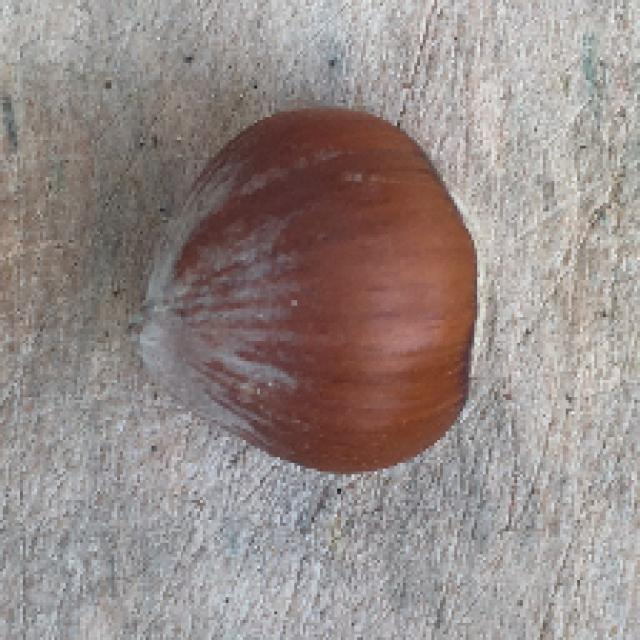qualityHazelnut: (110, 100, 493, 477)
